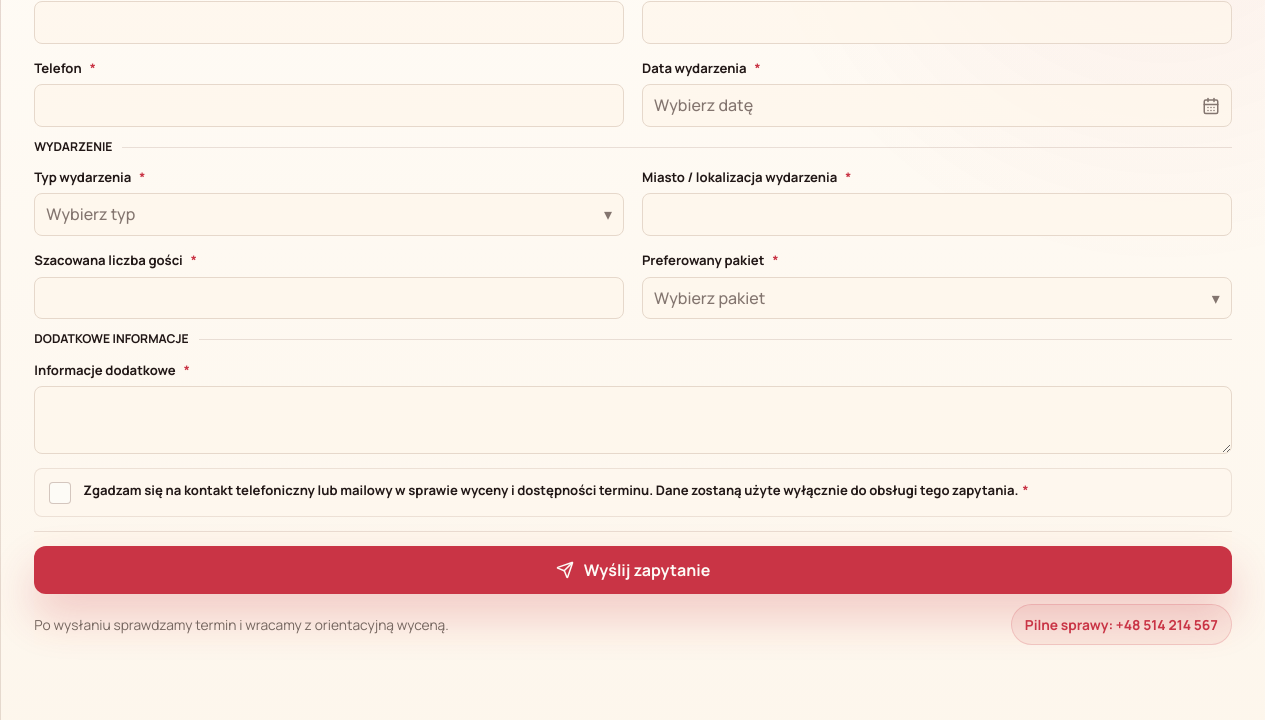
LeadForm › focuses an error summary after an empty submit
(page scrolled)
Step 1. Click the button "Wyślij zapytanie" → click(633, 570), box 34,546 -> 1232,594
(page scrolled)
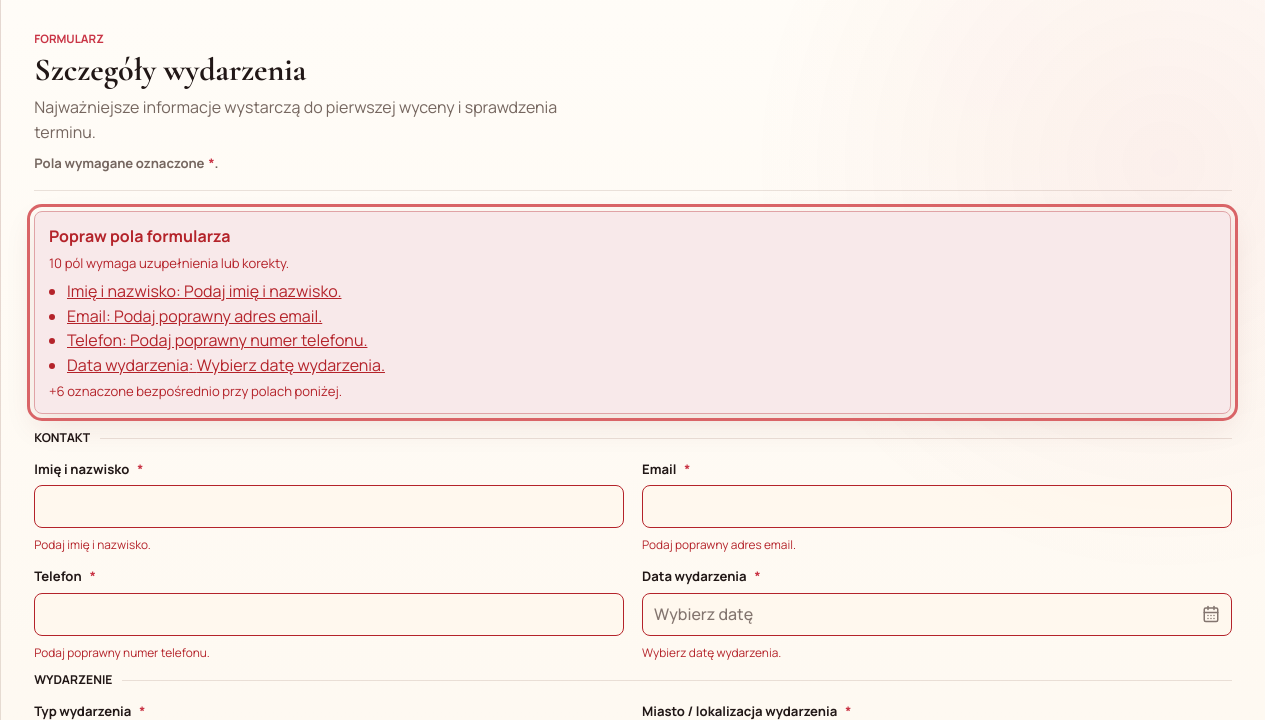
Expected: the message shows "Popraw pola formularza", 49,226 -> 231,248
